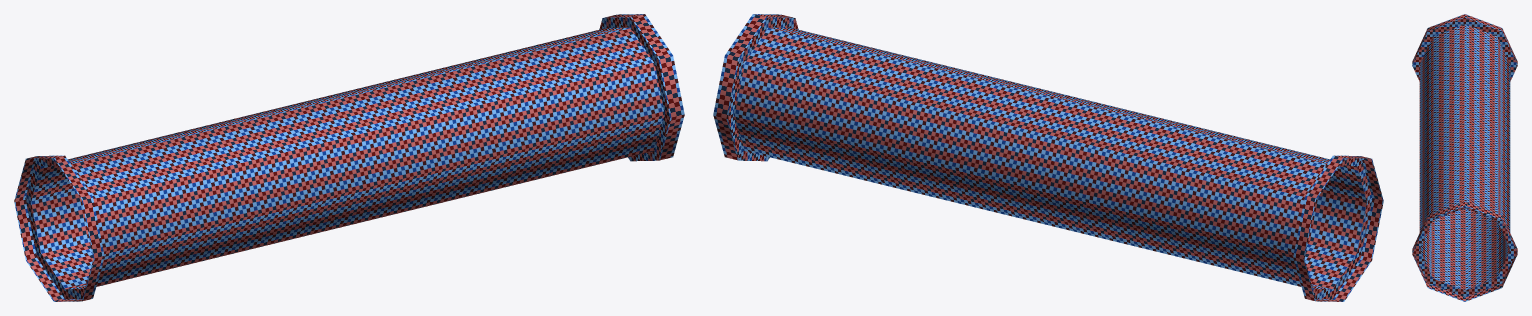
Rendered from Pipe_Small.fbx.
3 views of the same model, side by side, from view 1: azimuth 30°, elevation 25°; view 2: azimuth 150°, elevation 25°; view 3: azimuth 270°, elevation 25° (orthographic). The views are drawn at different scales.
Parts seen in each view (by area): view 1: Pipe9; view 2: Pipe9; view 3: Pipe9.
Boxes of the visible parts, x1=… form: Pipe9: x1=14, y1=14, x2=684, y2=301; Pipe9: x1=713, y1=14, x2=1383, y2=301; Pipe9: x1=1412, y1=14, x2=1517, y2=301.
Size of the model in its own units: 100 by 23.23 by 23.23.
1 material, 1 textured.
